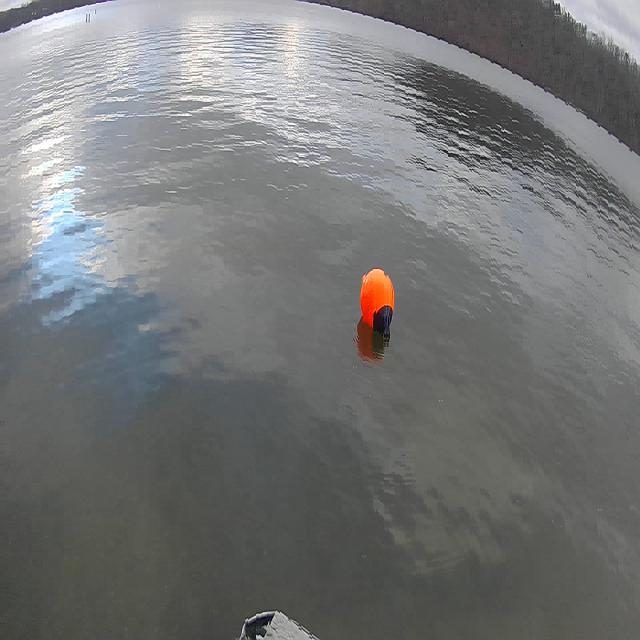Buoy: (354, 257, 404, 351)
